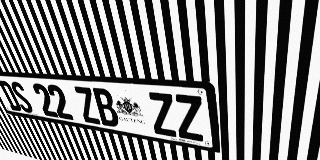2: (45, 84, 74, 120), (31, 83, 59, 118)
B: (90, 88, 121, 128)
D: (0, 80, 23, 112)
S: (8, 81, 35, 114)
Z: (173, 94, 205, 142), (146, 92, 178, 137), (72, 86, 102, 125)
